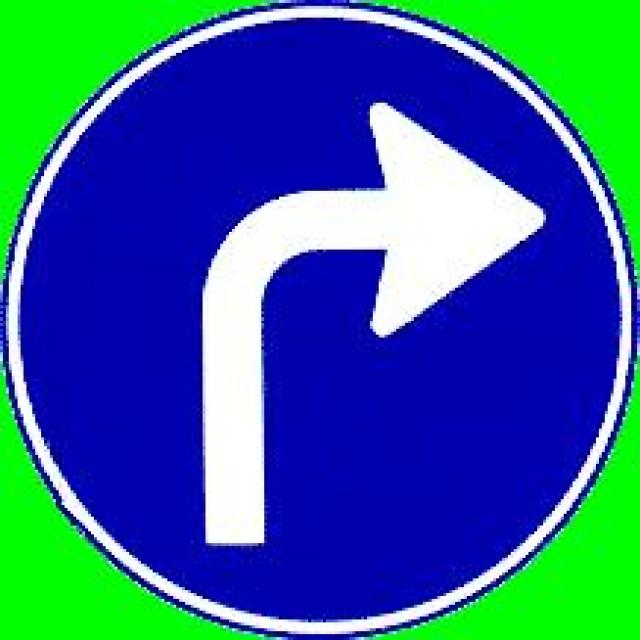right: (172, 90, 552, 550)
